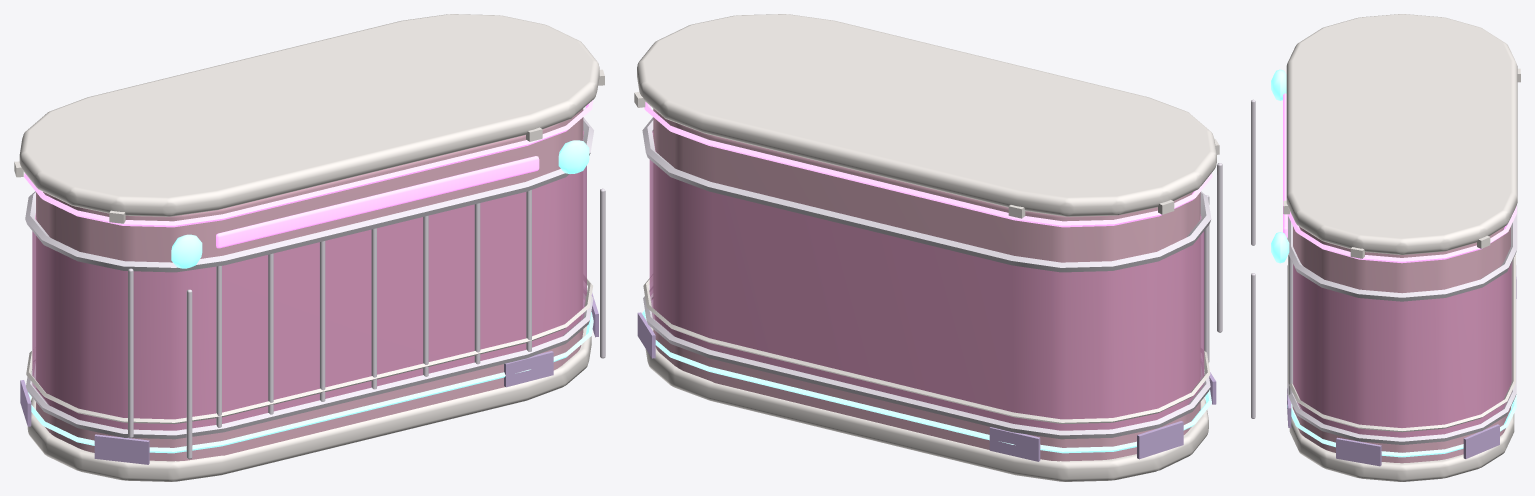
Rendered from building_capsule_row.glb.
The picture shows the model from 3 angles, left to right: view 1: azimuth 30°, elevation 25°; view 2: azimuth 150°, elevation 25°; view 3: azimuth 270°, elevation 25°; orthographic projection. The views are drawn at different scales.
Parts seen in each view (by area): view 1: building_capsule_row; view 2: building_capsule_row; view 3: building_capsule_row.
Boxes of the visible parts, x1=… form: building_capsule_row: x1=14, y1=14, x2=605, y2=481; building_capsule_row: x1=634, y1=14, x2=1222, y2=481; building_capsule_row: x1=1251, y1=14, x2=1520, y2=481.
Size of the model in its own units: 8.45 by 4.24 by 4.21.
